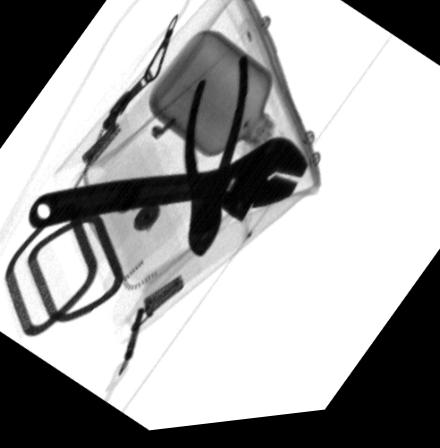Pliers: (185, 60, 249, 262)
Wrench: (29, 142, 310, 230)
